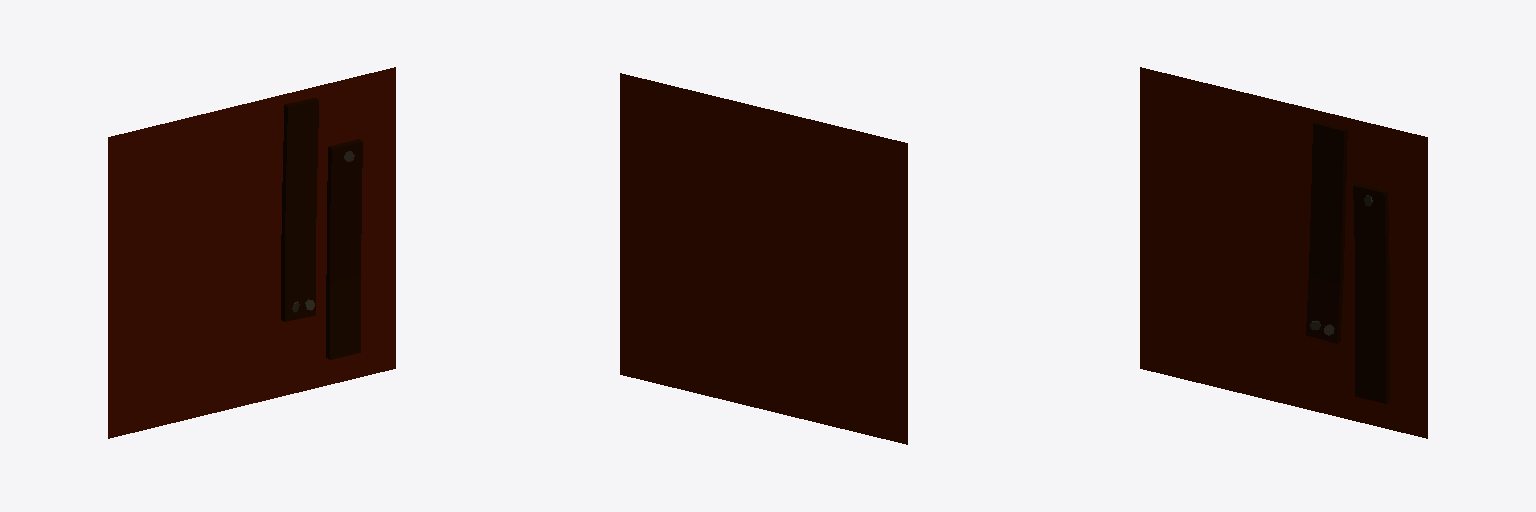
File: FloorTile001.obj
3 renders of one model, left to right at view 1: azimuth 30°, elevation 25°; view 2: azimuth 150°, elevation 25°; view 3: azimuth 330°, elevation 25°, orthographic.
Visible parts, largest first — view 1: Plane001, Box002, Box001; view 2: Plane001; view 3: Plane001, Box001, Box002.
Boxes of the visible parts, x1=… form: Plane001: x1=108, y1=67, x2=395, y2=438; Box002: x1=281, y1=98, x2=318, y2=321; Box001: x1=326, y1=139, x2=362, y2=359; Plane001: x1=620, y1=73, x2=907, y2=444; Plane001: x1=1140, y1=67, x2=1427, y2=438; Box001: x1=1353, y1=183, x2=1389, y2=403; Box002: x1=1306, y1=120, x2=1347, y2=343.
Bounding box in the file's own units: 32 × 32 × 1.56.